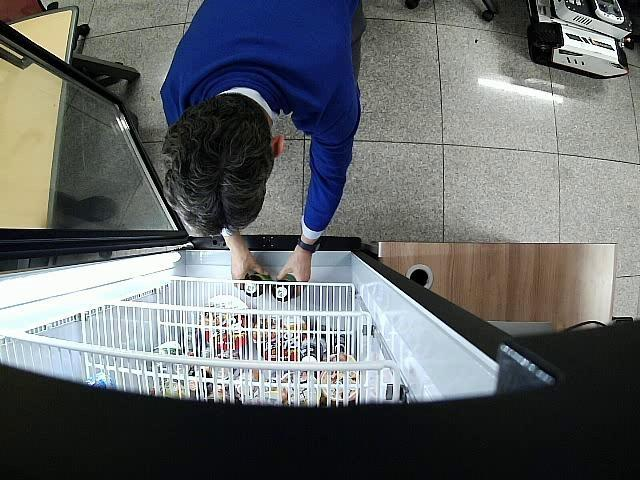19_17cha: (242, 272, 270, 299), (272, 274, 298, 301)
